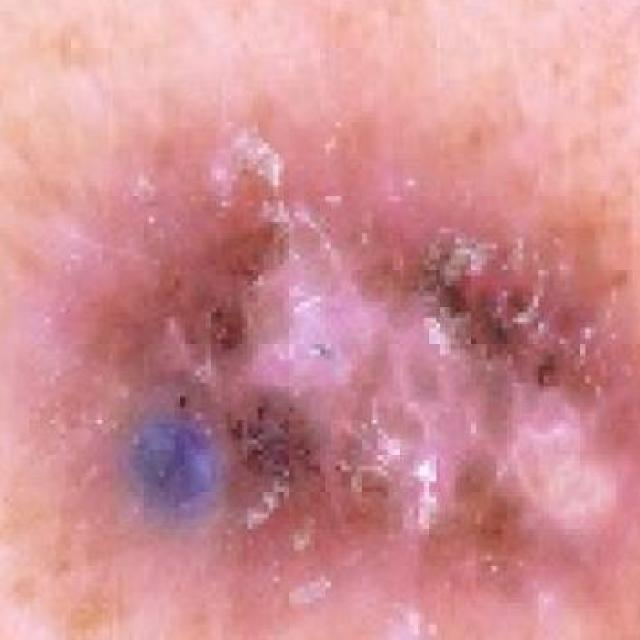DF: (40, 50, 640, 640)
